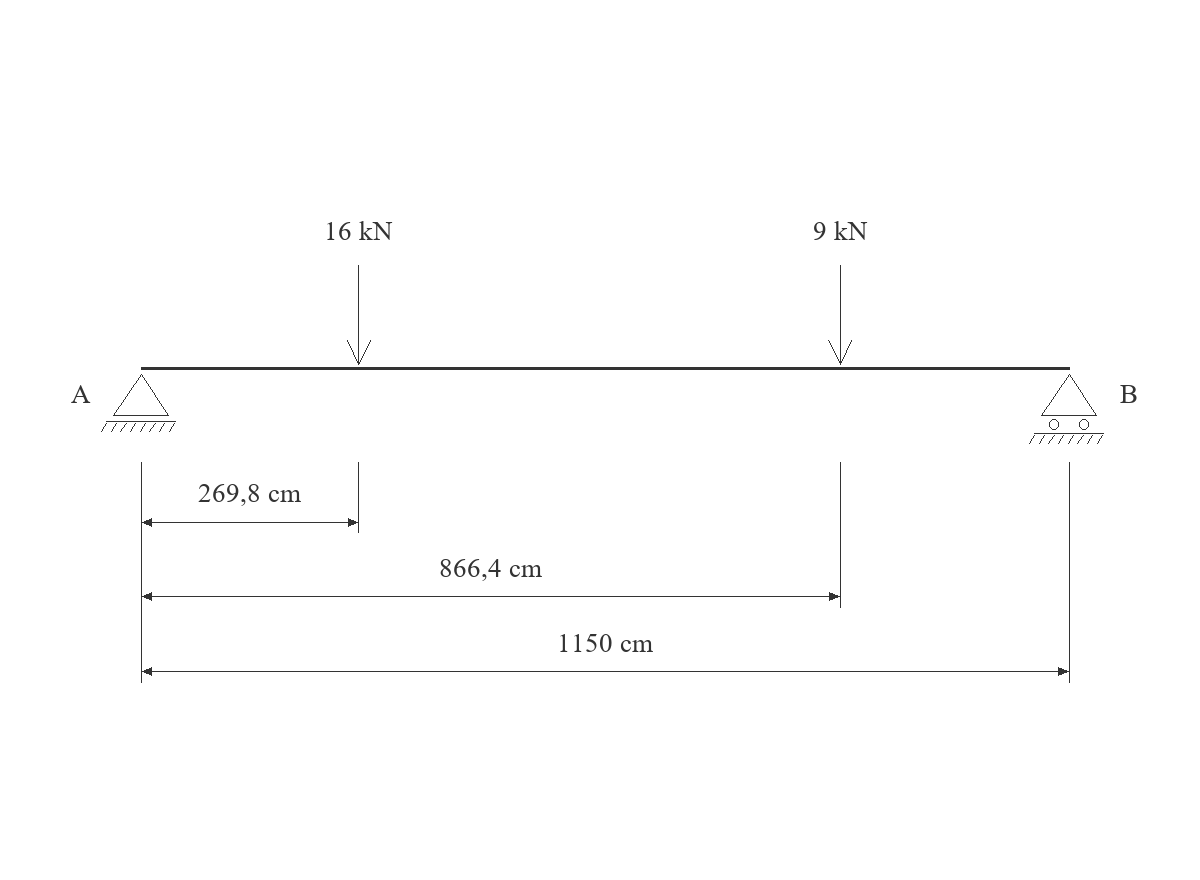pin_support: (101, 374, 176, 432)
point_load: (347, 265, 371, 365), (828, 265, 852, 365)
roller_support: (1029, 374, 1104, 444)
